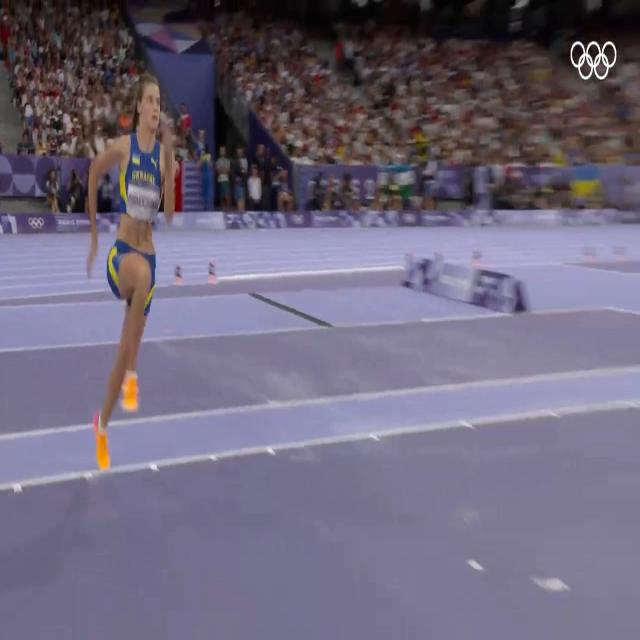run: (85, 71, 181, 476)
